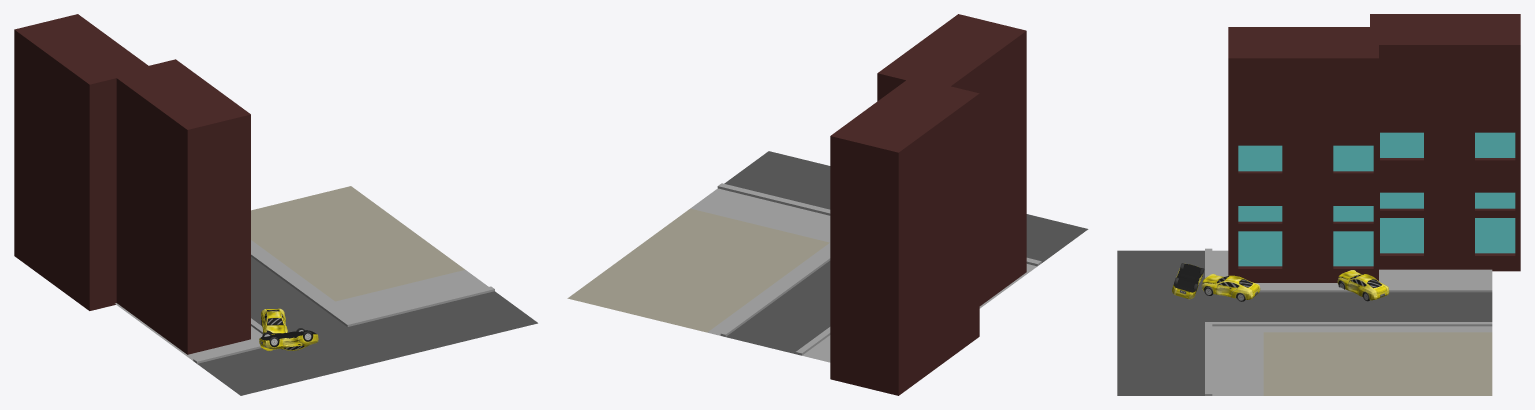
The model's file is Parte_Fondo_Menu.fbx.
The picture shows the model from 3 angles, left to right: view 1: azimuth 30°, elevation 25°; view 2: azimuth 150°, elevation 25°; view 3: azimuth 270°, elevation 25°; orthographic projection. The views are drawn at different scales.
Visible parts, largest first — view 1: group3; view 2: group3; view 3: group3.
Boxes of the visible parts, <box> form: group3: <box>14,14,537,395</box>; group3: <box>567,14,1088,395</box>; group3: <box>1117,14,1520,395</box>.
Bounding box in the file's own units: 46.2 × 31 × 50.04.
